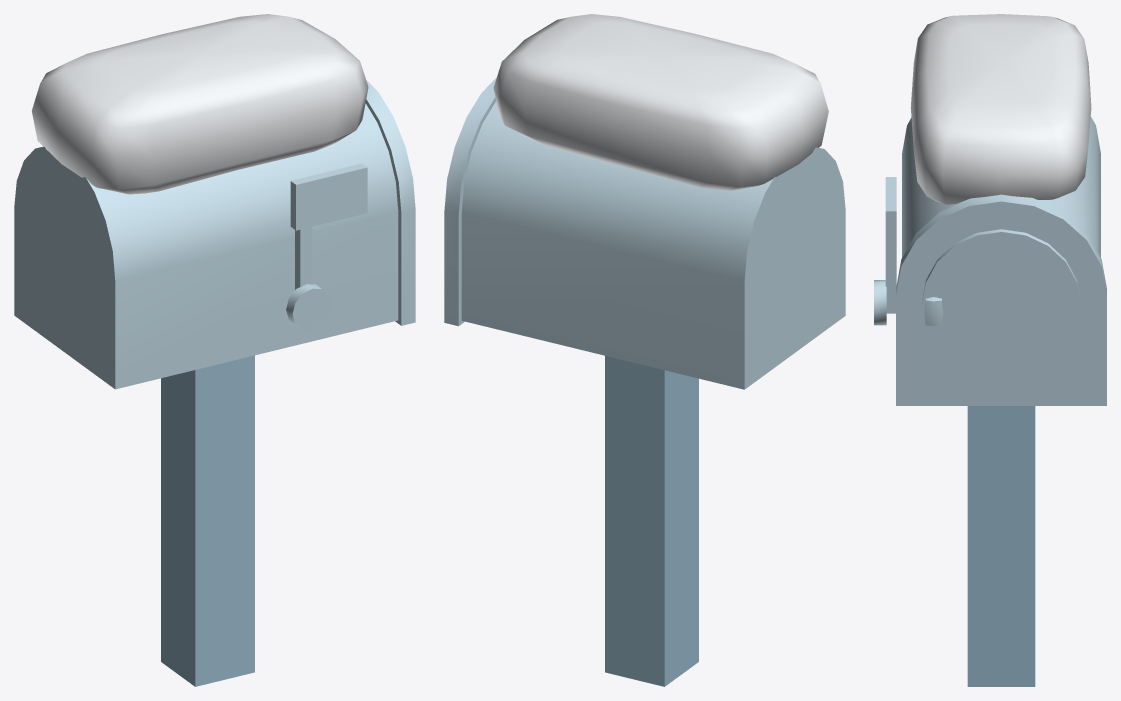
Rendered from SnowyMailbox.obj.
3 views of the same model, side by side, from view 1: azimuth 30°, elevation 25°; view 2: azimuth 150°, elevation 25°; view 3: azimuth 270°, elevation 25° (orthographic).
Visible parts, largest first — view 1: SnowyMailbox; view 2: SnowyMailbox; view 3: SnowyMailbox.
Part boxes in pixels (box(x1,y1,x2,y2)): SnowyMailbox: box(14, 14, 415, 686); SnowyMailbox: box(444, 14, 845, 686); SnowyMailbox: box(874, 14, 1106, 686).
Size of the model in its own units: 4 by 7.4 by 2.58.
Materials: 1 (1 with a texture image).
